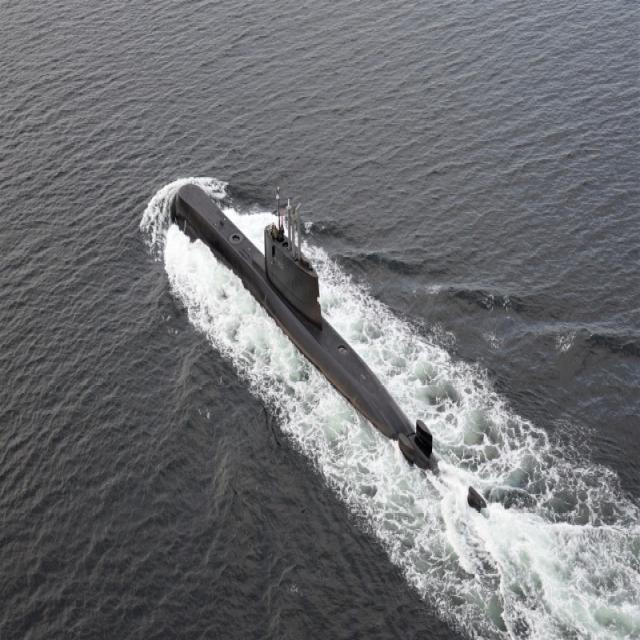submarine: (168, 165, 447, 476)
